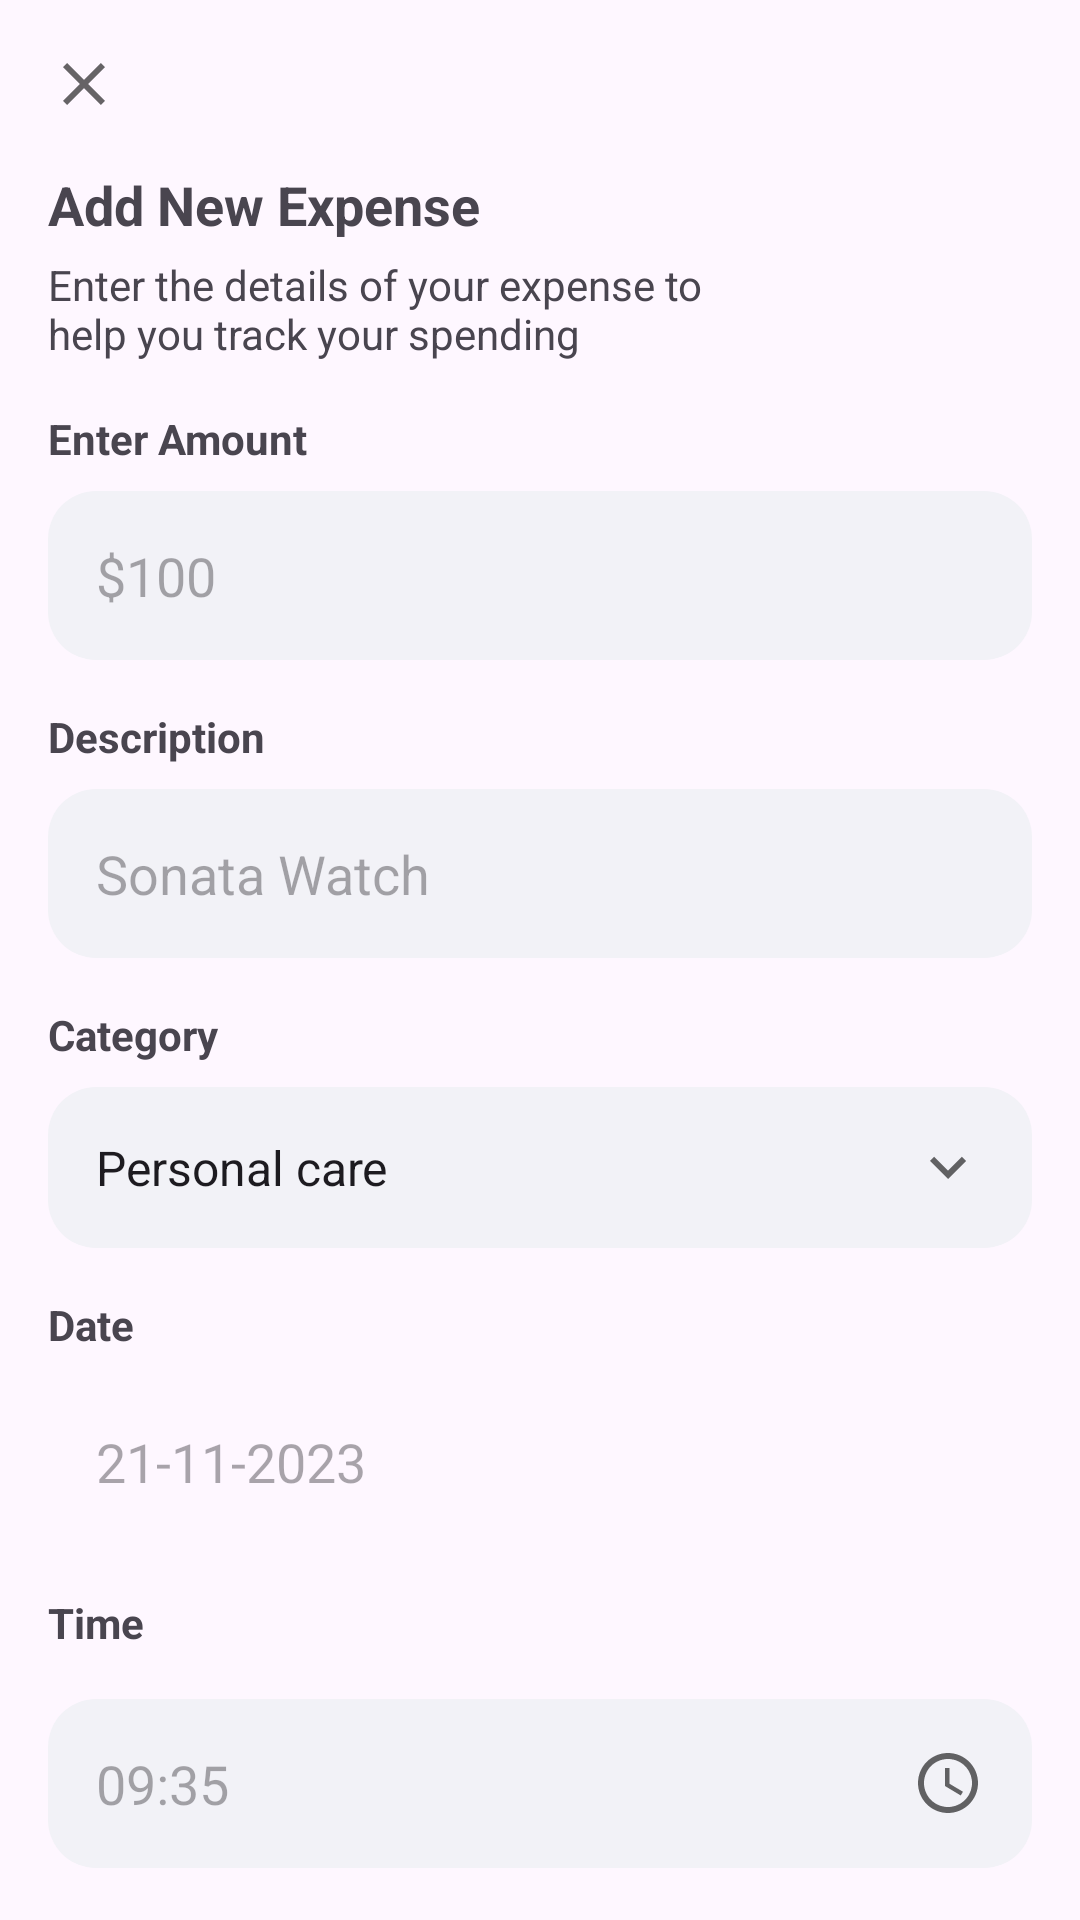

Screen size 1080x1920. Icon name, then its center in pixels as (x=x, y=y):
cancel: (x=84, y=84)
